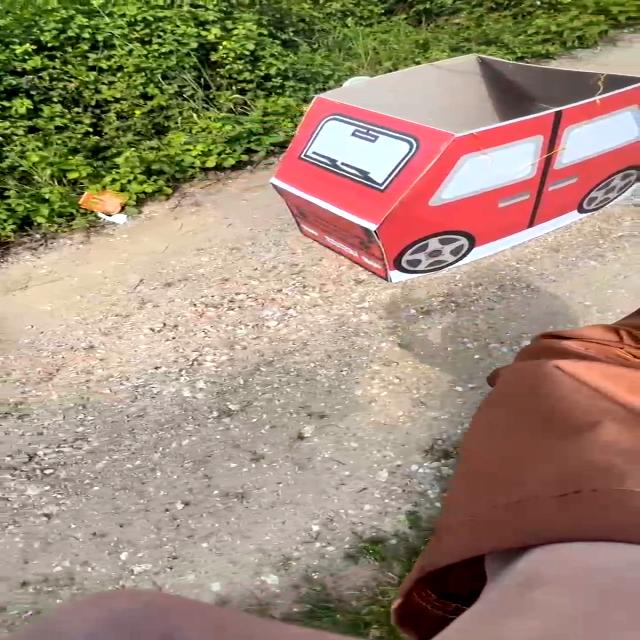red_car: (206, 37, 640, 298)
